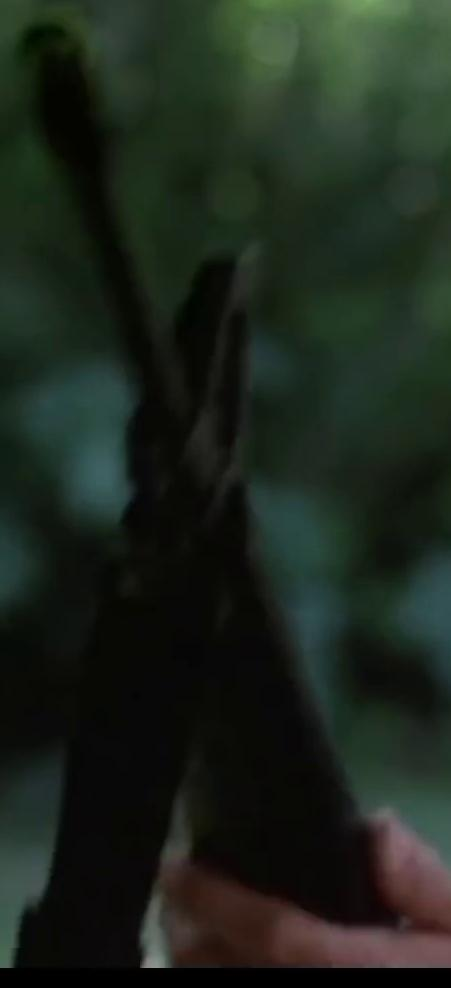gun: (0, 1, 451, 988)
